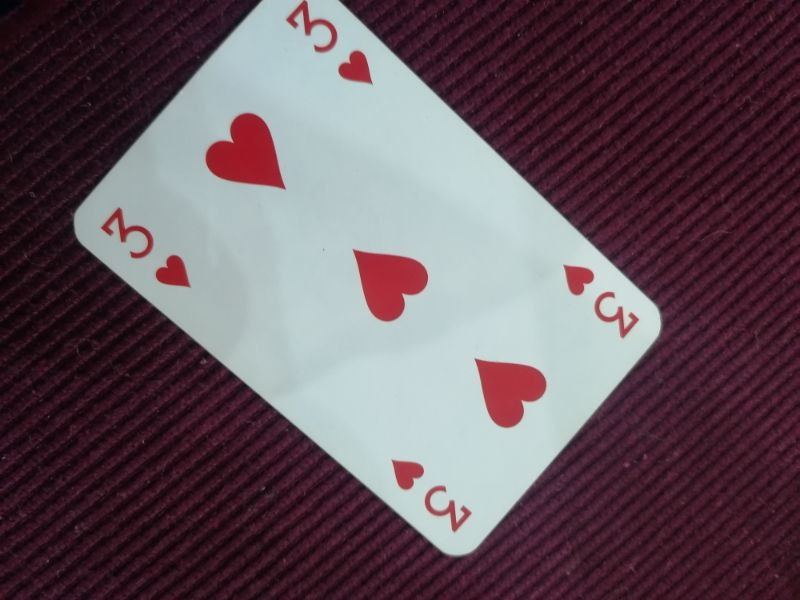3h: (95, 205, 194, 292), (281, 1, 375, 87), (387, 454, 475, 534), (559, 259, 641, 340)
